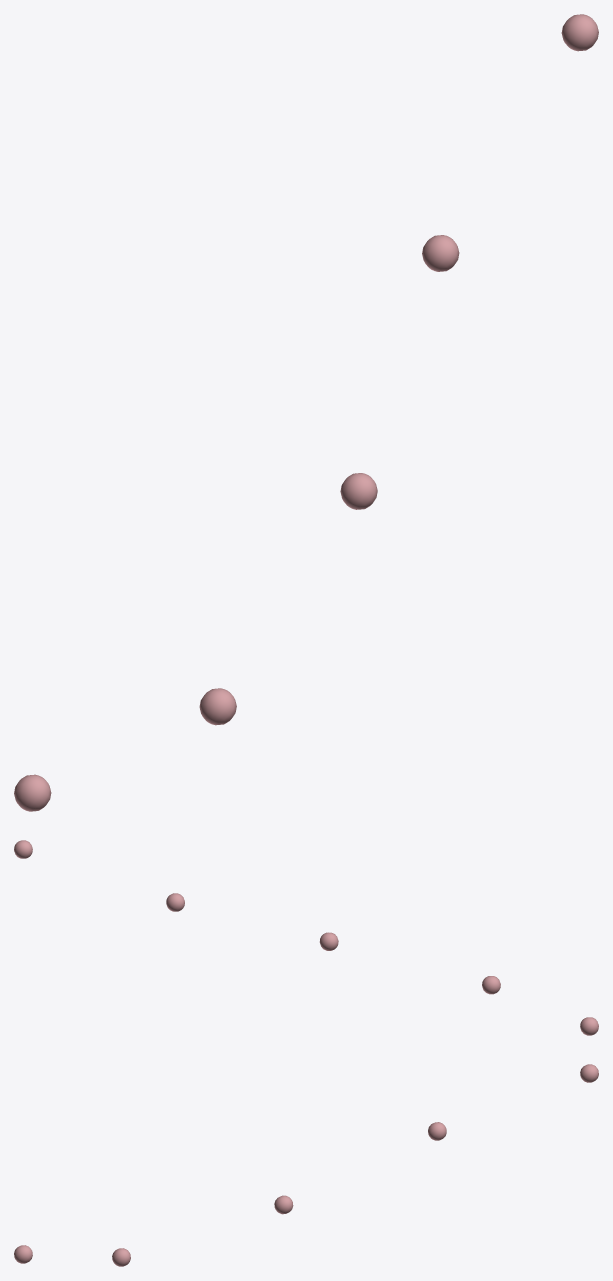
3 views of the same model, one above another, from view 1: azimuth 30°, elevation 25°; view 2: azimuth 150°, elevation 25°; view 3: azimuth 330°, elevation 25° (orthographic). The views are drawn at different scales.
Parts seen in each view (by area): view 1: ZA_3d5cab84ac2b8394; view 2: ZA_3d5cab84ac2b8394; view 3: ZA_3d5cab84ac2b8394.
Boxes of the visible parts, left/top/right/bottom form: ZA_3d5cab84ac2b8394: left=14, top=14, right=598, bottom=811; ZA_3d5cab84ac2b8394: left=14, top=840, right=598, bottom=1035; ZA_3d5cab84ac2b8394: left=14, top=1064, right=598, bottom=1266.
Size of the model in its own units: 0.0692 by 0.0295 by 0.0418.
